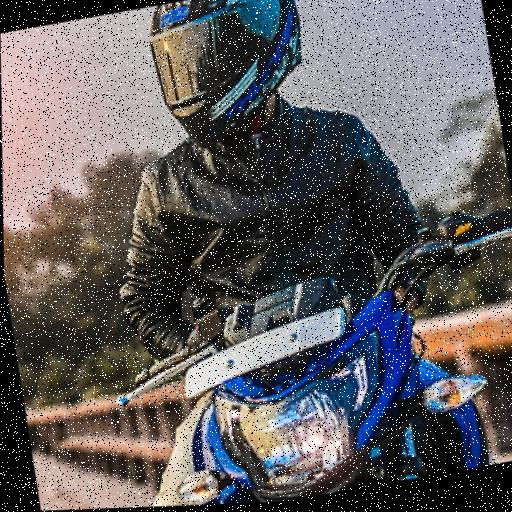Helmet: (109, 0, 335, 164)
Motor: (68, 229, 512, 510)
